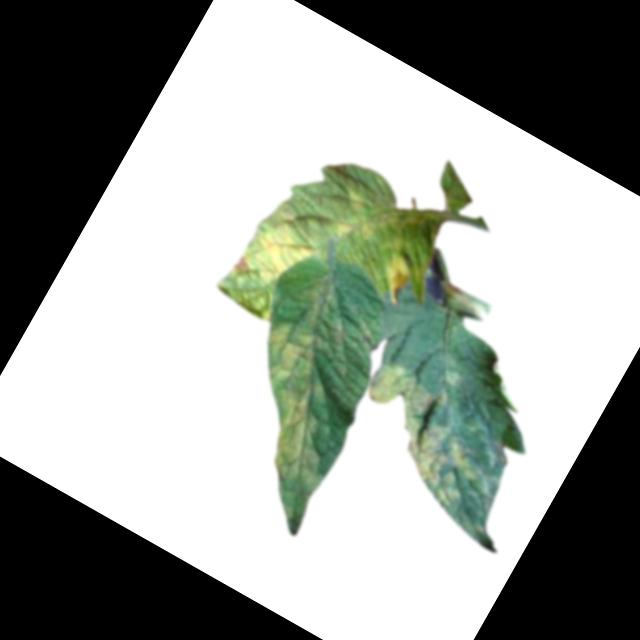Leaf_Mold: (207, 313, 379, 496), (332, 355, 507, 517), (233, 197, 332, 303), (324, 186, 392, 255), (370, 246, 425, 310)
